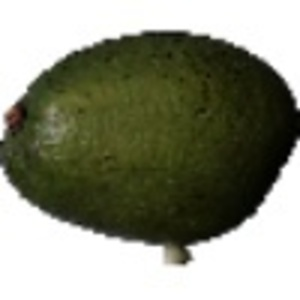abacate: (1, 29, 299, 245)
